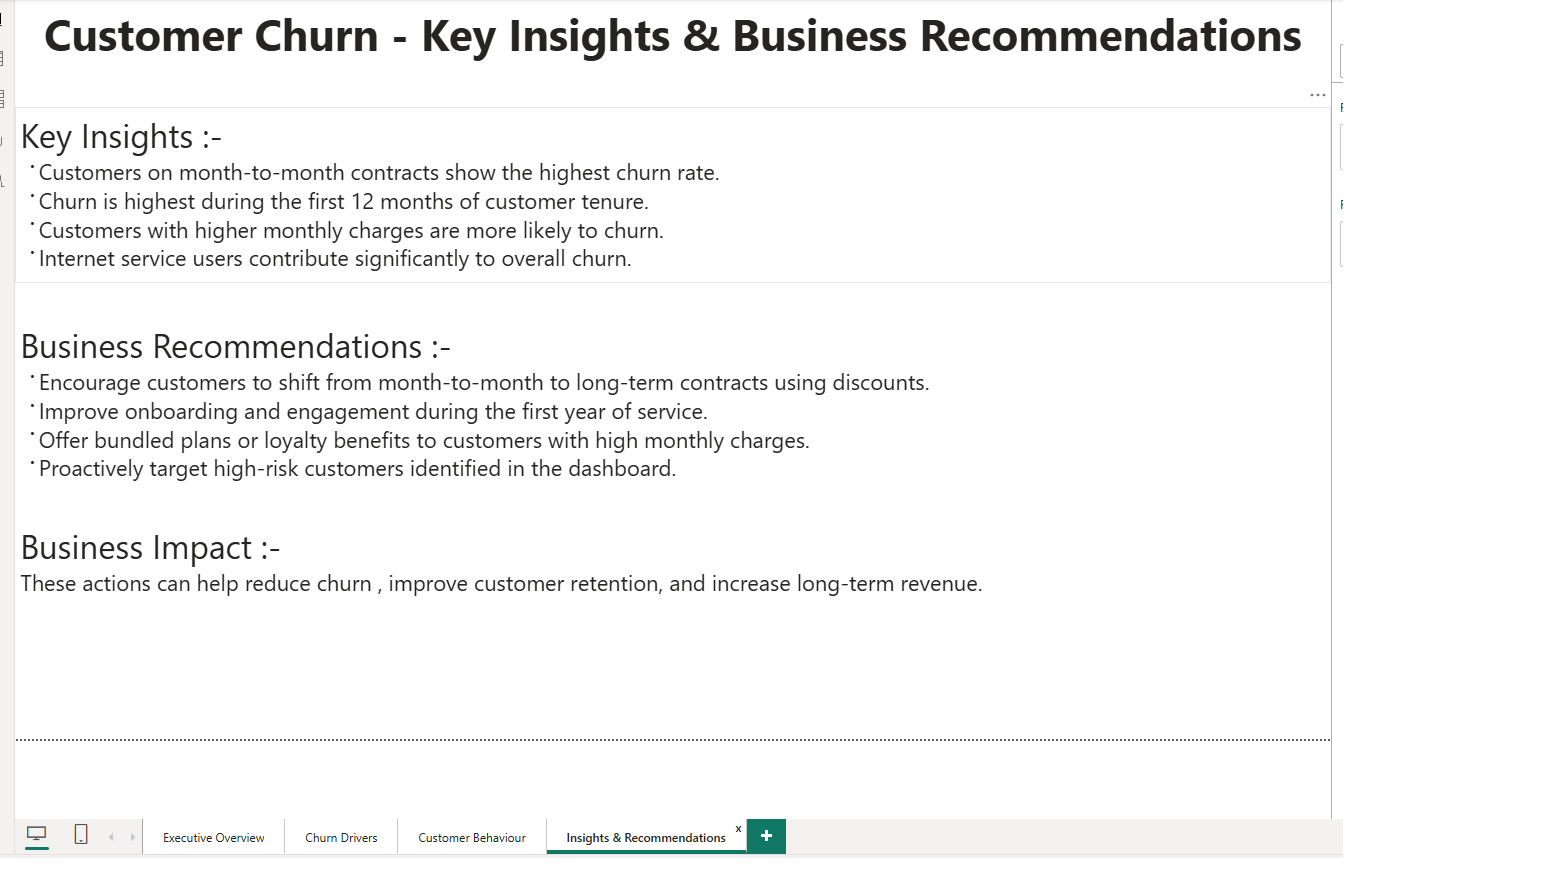

Layout of this report page (visuals, bound fields, positions):
{"tool":"powerbi","page":{"name":"Insights & Recommendations","canvas":[1280,720],"ordinal":3},"visuals":[{"type":"textbox","box":[0,0,1280,69.1],"z":0},{"type":"textbox","box":[0,105,1280,171.2],"z":1},{"type":"textbox","box":[0,309.3,1280,179],"z":2},{"type":"textbox","box":[0,504.5,1280,179],"z":3}]}

Visuals, with their boxes on the page's 1280x720 design canvas (x1, y1, x2, y2). These are canvas units, not pixel positions in the 1558x887 screenshot, which may show the page scaled, cropped or inside an application window:
textbox: box(0, 0, 1280, 69)
textbox: box(0, 105, 1280, 276)
textbox: box(0, 309, 1280, 488)
textbox: box(0, 504, 1280, 684)
